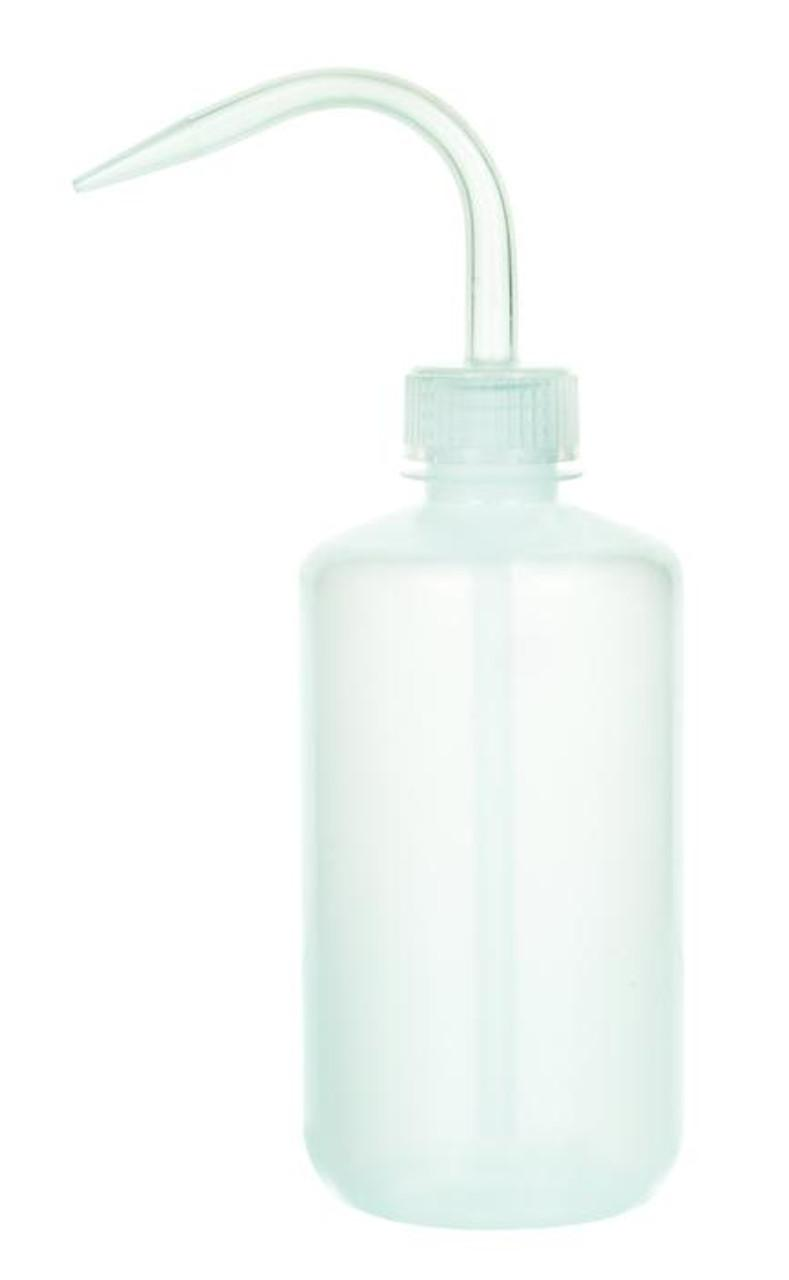LDPE: (2, 0, 789, 1280)
